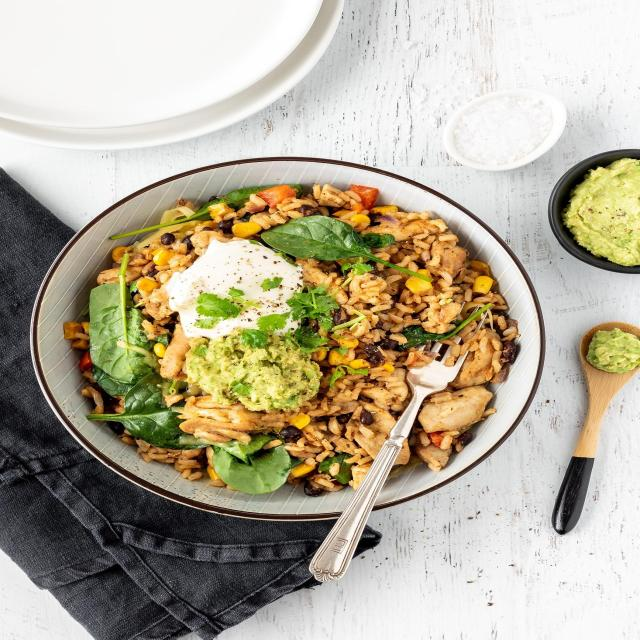Nasi Goreng: (67, 182, 521, 498)
